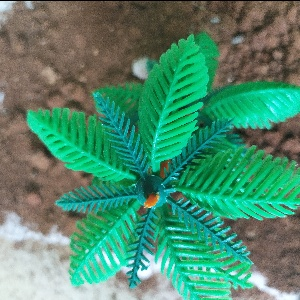plant: (24, 40, 287, 298)
